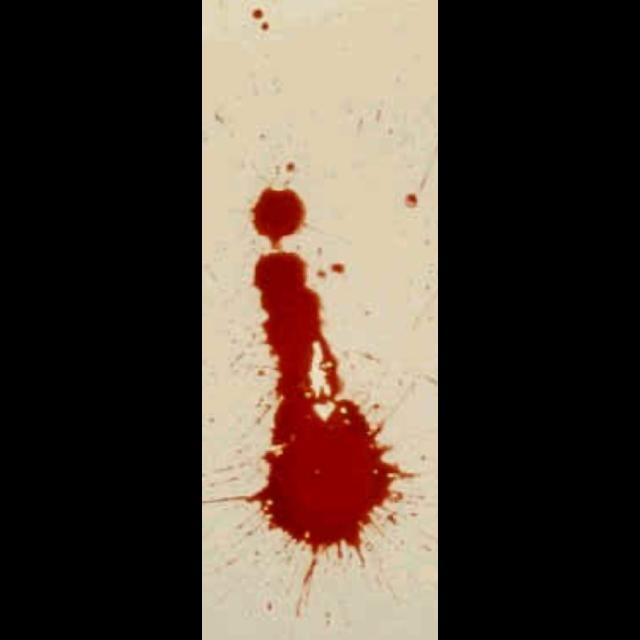blood: (239, 252, 415, 558), (252, 186, 307, 250)
